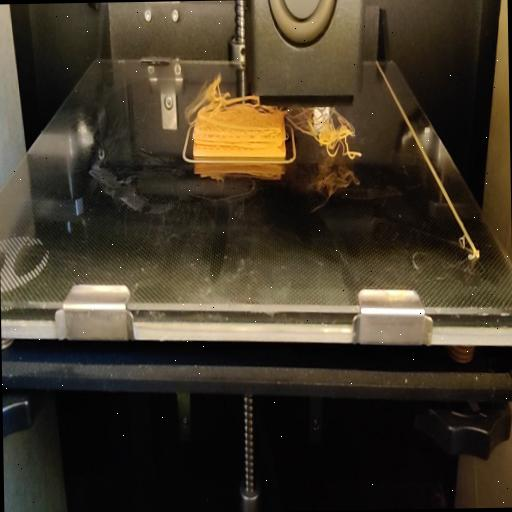spaghetti: (289, 107, 361, 159)
